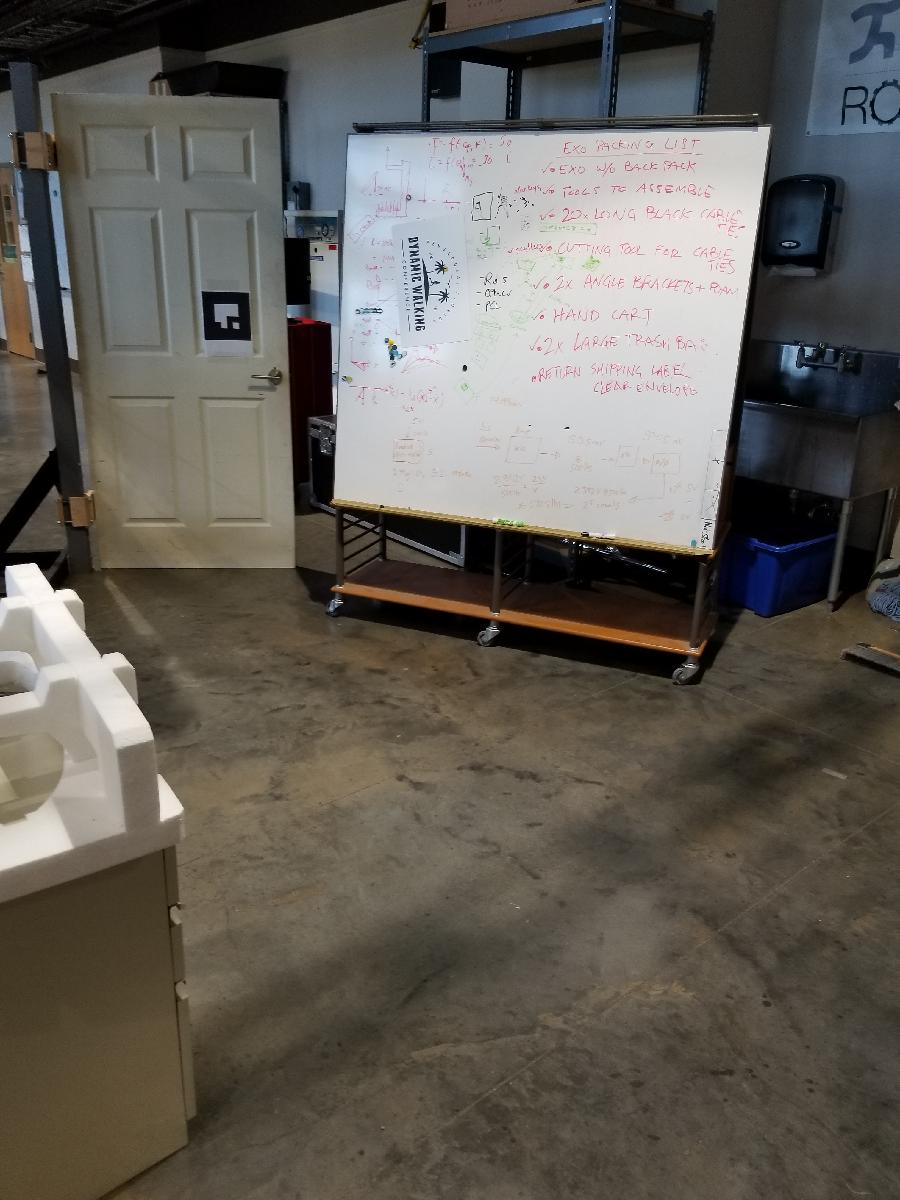door: (47, 84, 304, 573)
doorHandle: (250, 370, 282, 392)
